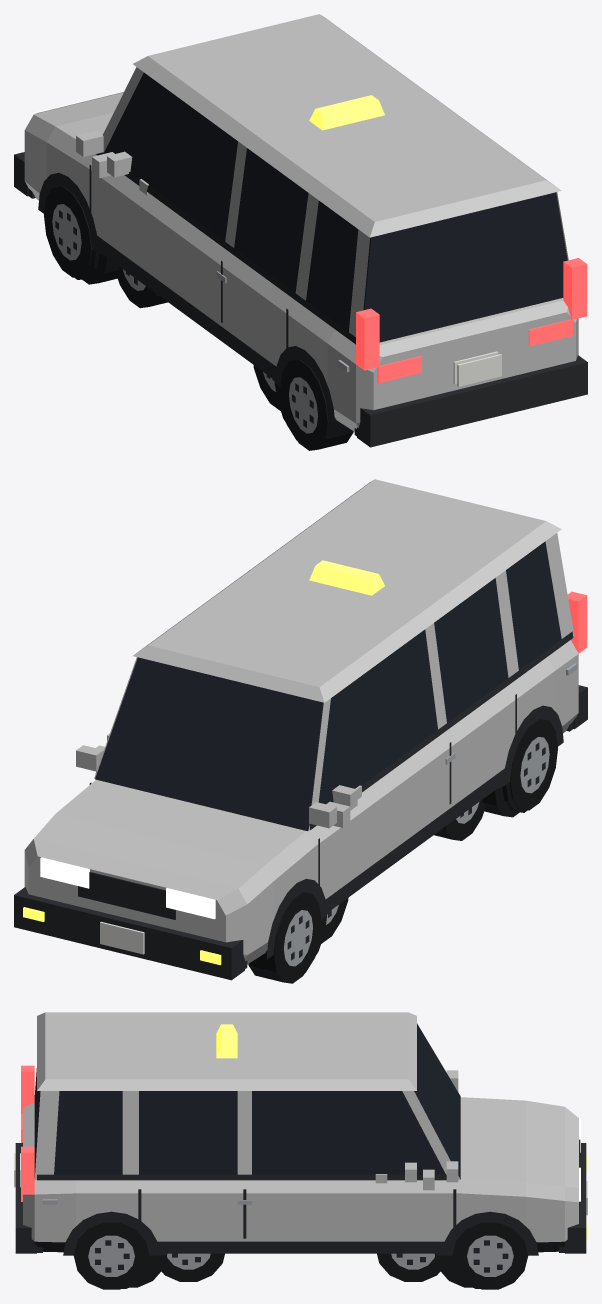
Rendered from cars.glb.
3 views of the same model, one above another, from view 1: azimuth 30°, elevation 25°; view 2: azimuth 150°, elevation 25°; view 3: azimuth 270°, elevation 25° (orthographic). The views are drawn at different scales.
Visible parts, largest first — view 1: CV_Minivan, CV_Taxi, CV_Kei, CV_Sedan; view 2: CV_Minivan, CV_Taxi, CV_Kei, CV_Sedan; view 3: CV_Minivan, CV_Kei, CV_Taxi, CV_Sedan.
Part boxes in pixels (bbox=[...]): CV_Minivan: bbox=[14, 14, 587, 450]; CV_Taxi: bbox=[82, 95, 384, 422]; CV_Kei: bbox=[116, 179, 280, 410]; CV_Sedan: bbox=[19, 152, 581, 440]; CV_Minivan: bbox=[14, 479, 587, 983]; CV_Taxi: bbox=[107, 560, 519, 954]; CV_Kei: bbox=[321, 785, 485, 943]; CV_Sedan: bbox=[96, 691, 580, 972]; CV_Minivan: bbox=[14, 1012, 587, 1289]; CV_Kei: bbox=[161, 1174, 440, 1281]; CV_Taxi: bbox=[130, 1024, 471, 1287]; CV_Sedan: bbox=[20, 1143, 580, 1288].
Bounding box in the file's own units: 1.98 × 1.95 × 4.85.
